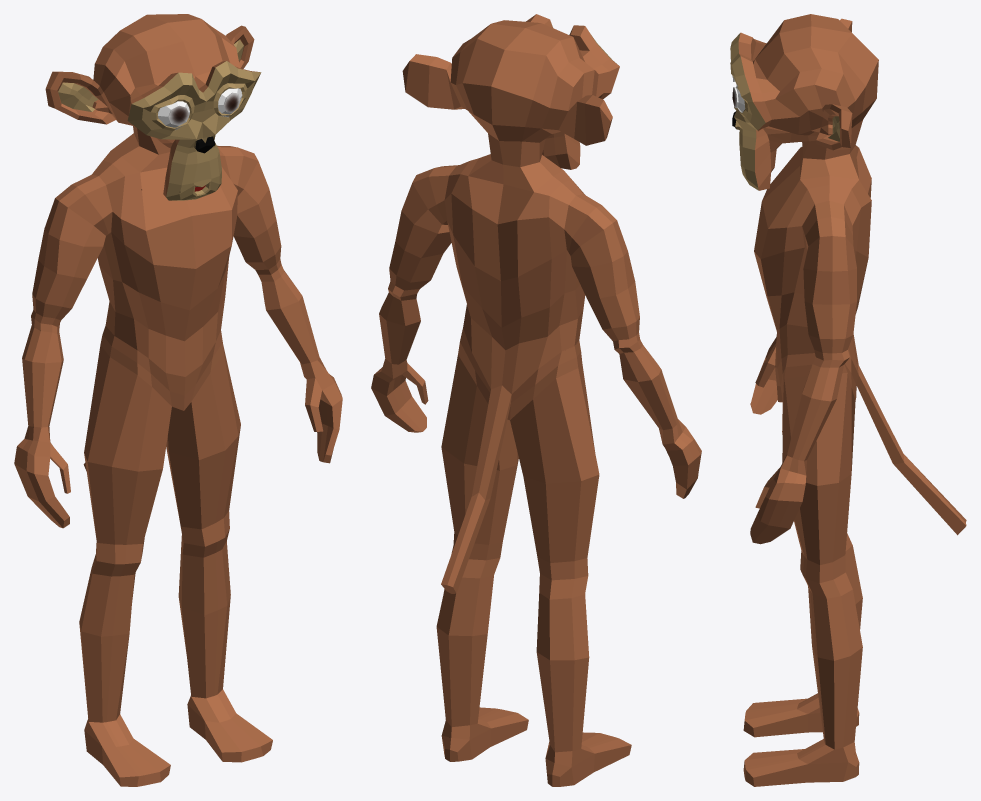
Rendered from monkeyWarrior.fbx.
3 renders of one model, left to right at view 1: azimuth 30°, elevation 25°; view 2: azimuth 150°, elevation 25°; view 3: azimuth 270°, elevation 25°, orthographic.
Visible parts, largest first — view 1: Cube; view 2: Cube; view 3: Cube.
Boxes of the visible parts, x1=… form: Cube: x1=14, y1=14, x2=342, y2=786; Cube: x1=371, y1=14, x2=701, y2=786; Cube: x1=730, y1=14, x2=966, y2=786.
Size of the model in its own units: 217 by 477 by 141.
